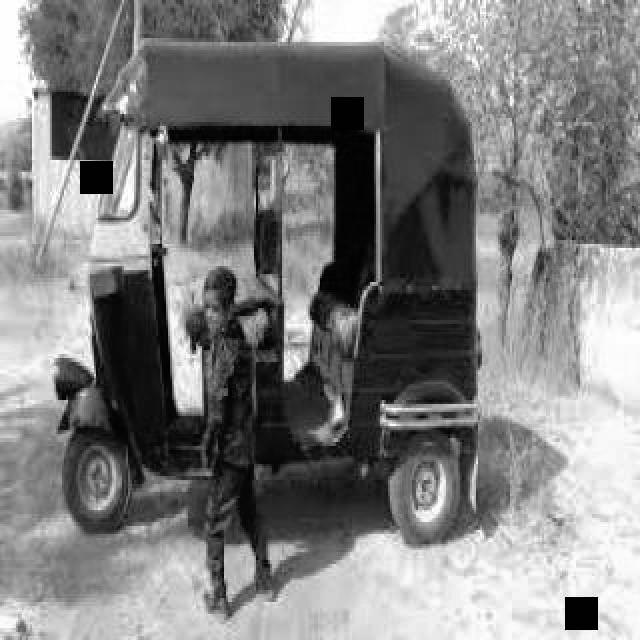Auto-Rickshaw: (50, 38, 508, 572)
